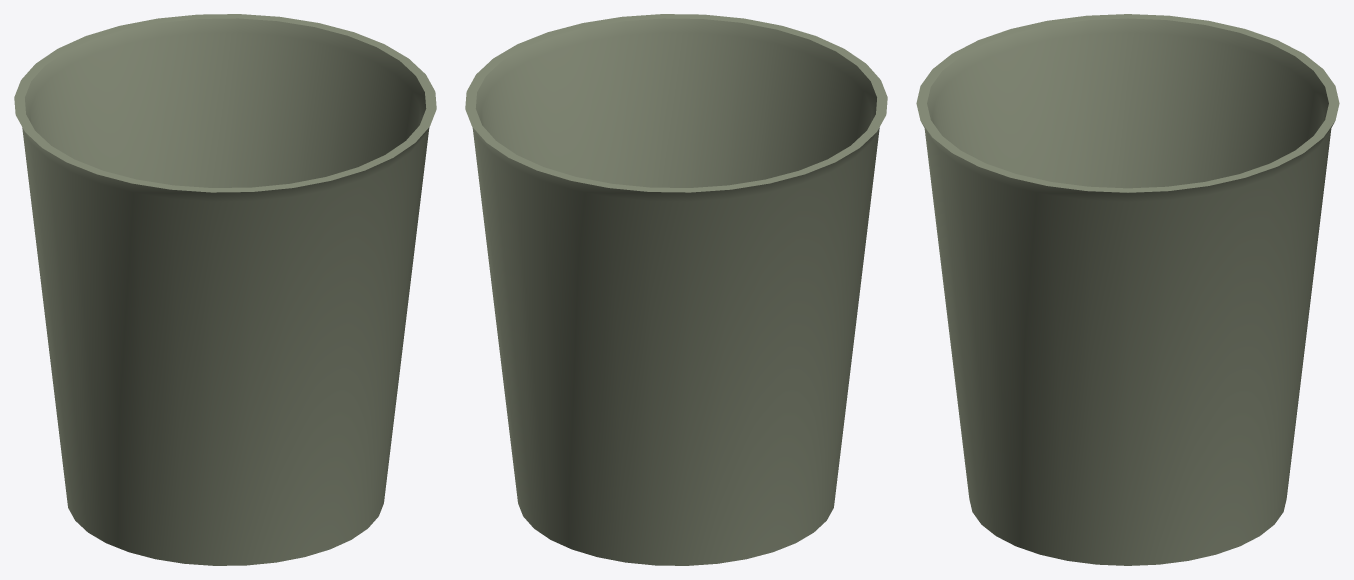
File: X14_DRESS_Wastebasket.glb
3 views of the same model, side by side, from view 1: azimuth 30°, elevation 25°; view 2: azimuth 150°, elevation 25°; view 3: azimuth 270°, elevation 25° (orthographic).
Parts seen in each view (by area): view 1: X14_DRESS_Wastebasket_LOD0; view 2: X14_DRESS_Wastebasket_LOD0; view 3: X14_DRESS_Wastebasket_LOD0.
Part boxes in pixels (left/top/right/bottom): X14_DRESS_Wastebasket_LOD0: left=14, top=14, right=436, bottom=565; X14_DRESS_Wastebasket_LOD0: left=465, top=14, right=887, bottom=565; X14_DRESS_Wastebasket_LOD0: left=916, top=14, right=1339, bottom=565.
Size of what is drawn, in the model's own units: 0.32 by 0.33 by 0.32.
